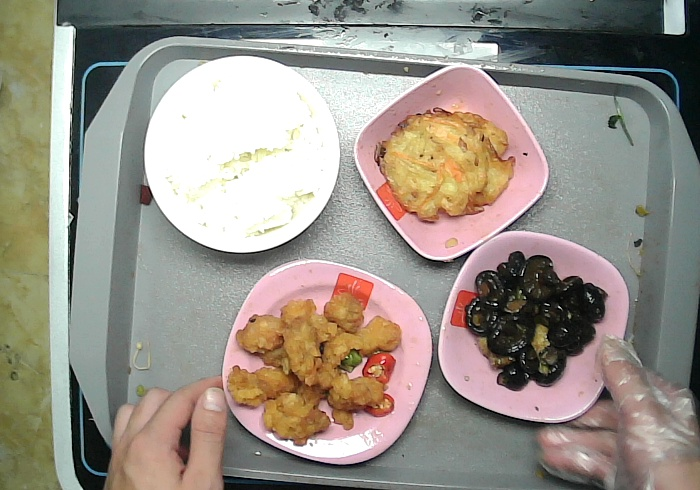SHKJ-Fan_Wan: (143, 54, 342, 252)
SHKJ-Fen_Se_Cai_Die: (436, 230, 634, 427)
SHKJ-Fen_Se_Si_Fang_Cai_Die: (220, 257, 435, 468)
SHKJ-Fen_Se_Xiao_Fang_Die: (352, 62, 553, 263)
